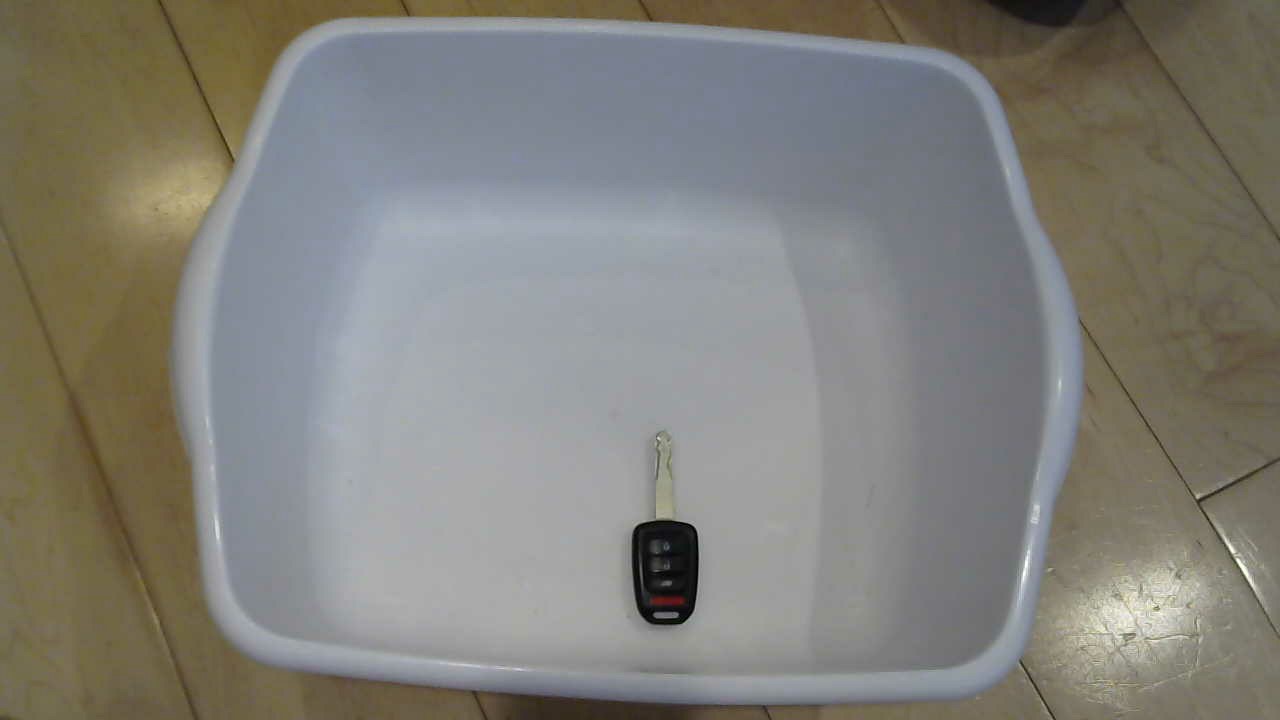key: (602, 430, 756, 635)
